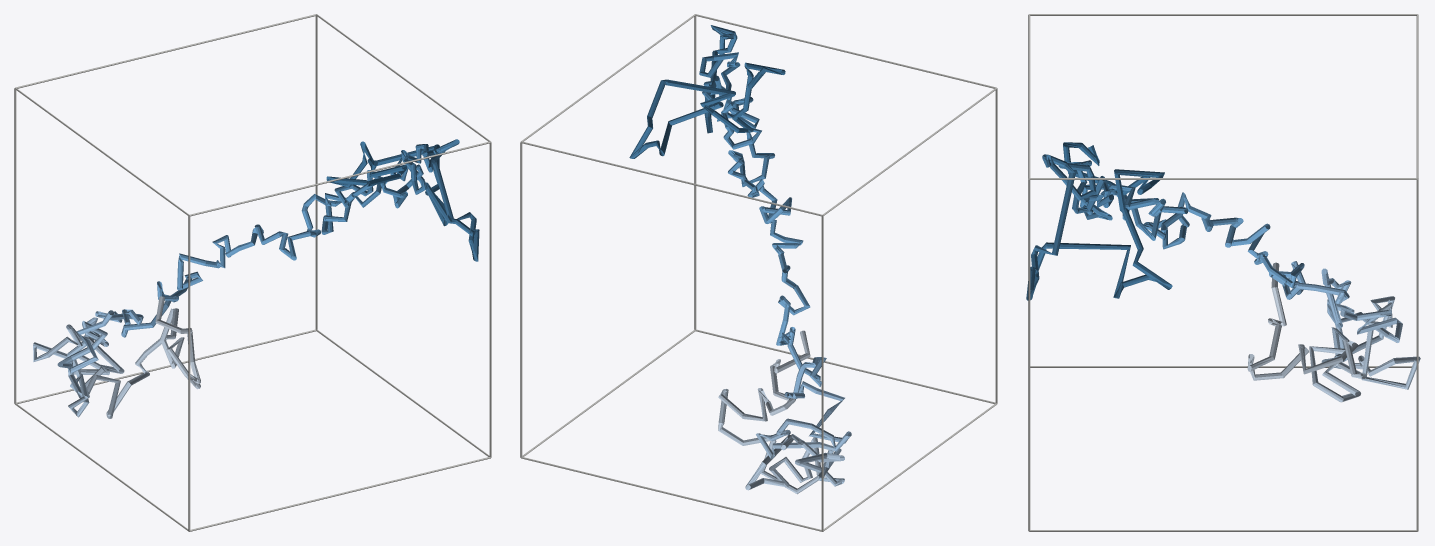
File: SP08_early.glb
3 views of the same model, side by side, from view 1: azimuth 30°, elevation 25°; view 2: azimuth 150°, elevation 25°; view 3: azimuth 270°, elevation 25° (orthographic). The views are drawn at different scales.
Parts seen in each view (by area): view 1: geometry_0, geometry_1; view 2: geometry_0, geometry_1; view 3: geometry_0, geometry_1.
Boxes of the visible parts, <box> form: geometry_0: <box>33,139,479,418</box>; geometry_1: <box>14,14,491,531</box>; geometry_0: <box>629,25,851,494</box>; geometry_1: <box>520,14,997,531</box>; geometry_0: <box>1026,142,1420,402</box>; geometry_1: <box>1028,14,1418,531</box>.
Size of the model in its own units: 0.3042 by 0.3047 by 0.3048.
